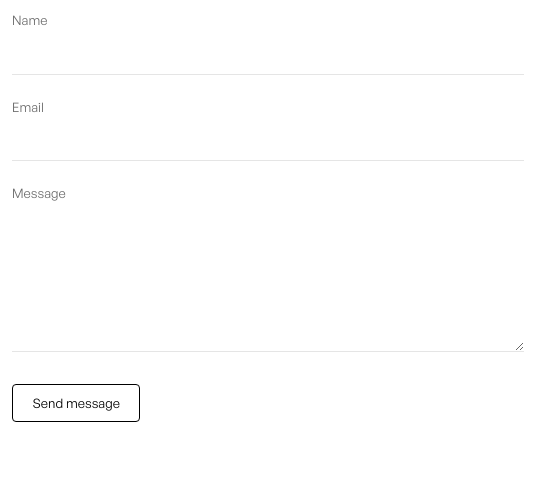
Test: ContactForm › shows the error copy when the request fails
Type "Jane" into the field labelled "Name". click: (268, 56)
box: [12, 37, 524, 75]
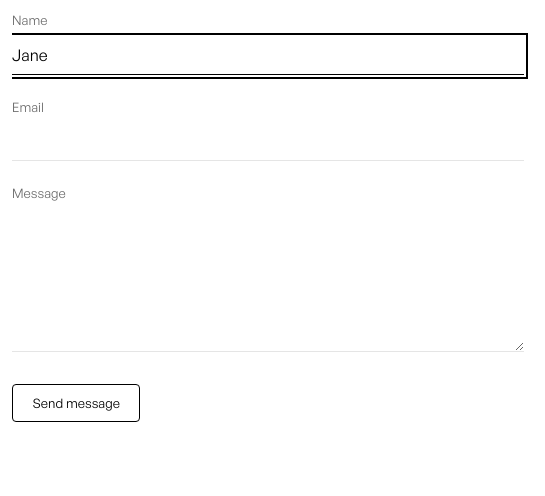
Type "jane@example.com" into the field labelled "Email". click: (268, 142)
box: [12, 124, 524, 161]
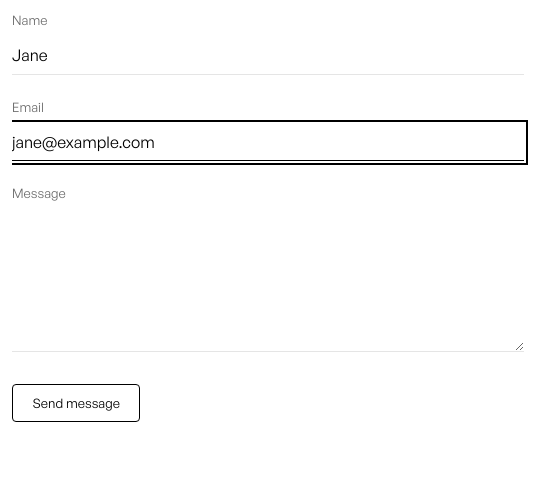
Type "Hello there" into the text box labelled "Message". click: (268, 281)
box: [12, 210, 524, 352]
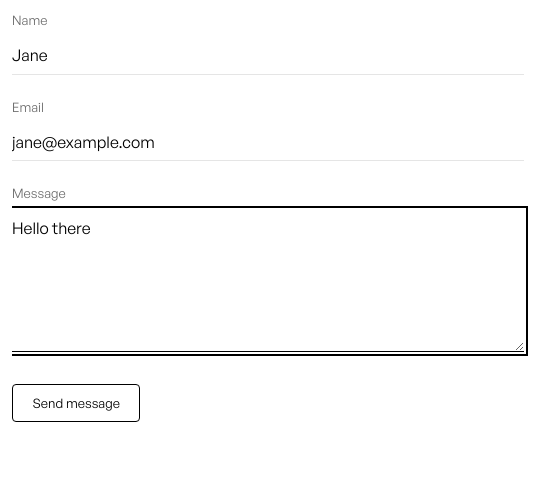
Click the button "Send message". click: (76, 403)
box: [12, 384, 140, 422]
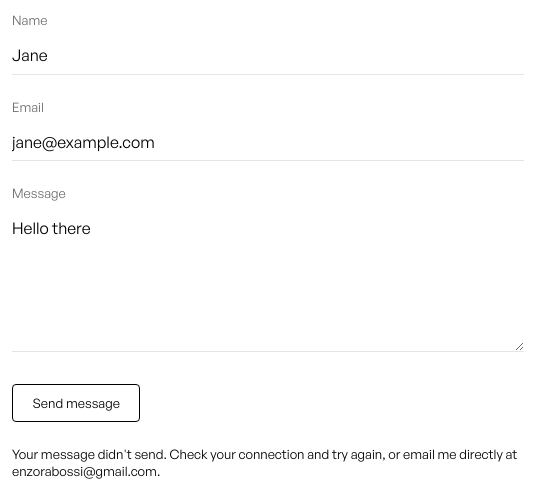
Expected: the text "Your message didn't send" is shown, [12, 446, 517, 479]
